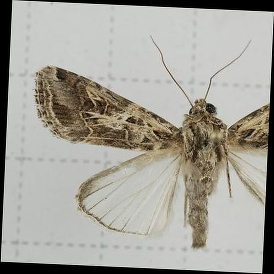Spodoptera litura: (29, 34, 268, 247)
